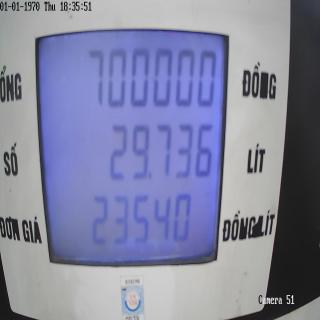screen: (32, 9, 235, 277)
